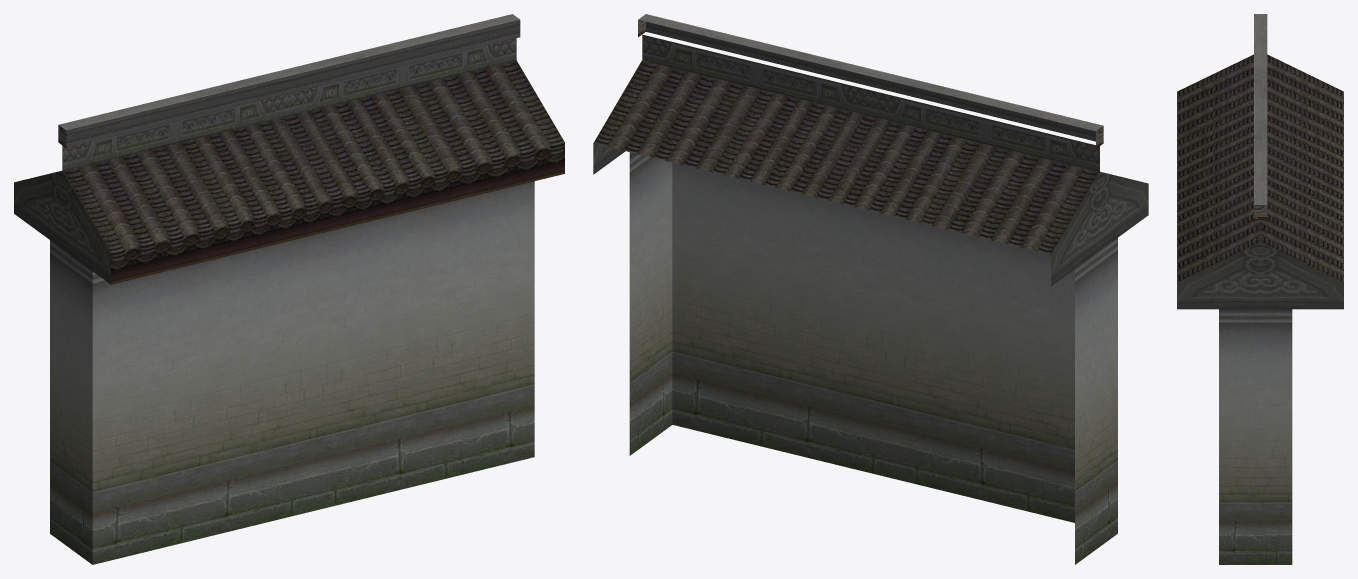
The model's file is zc_suzhou_qiang02.FBX.
The picture shows the model from 3 angles, left to right: view 1: azimuth 30°, elevation 25°; view 2: azimuth 150°, elevation 25°; view 3: azimuth 270°, elevation 25°; orthographic projection. The views are drawn at different scales.
Parts seen in each view (by area): view 1: zc_suzhou_qiang02; view 2: zc_suzhou_qiang02; view 3: zc_suzhou_qiang02.
Boxes of the visible parts, x1,y1,x2,y2 form: zc_suzhou_qiang02: (14,14,564,564); zc_suzhou_qiang02: (593,14,1148,564); zc_suzhou_qiang02: (1177,14,1343,564).
Bounding box in the file's own units: 381 × 337 × 141.
Materials: 1 (1 with a texture image).
